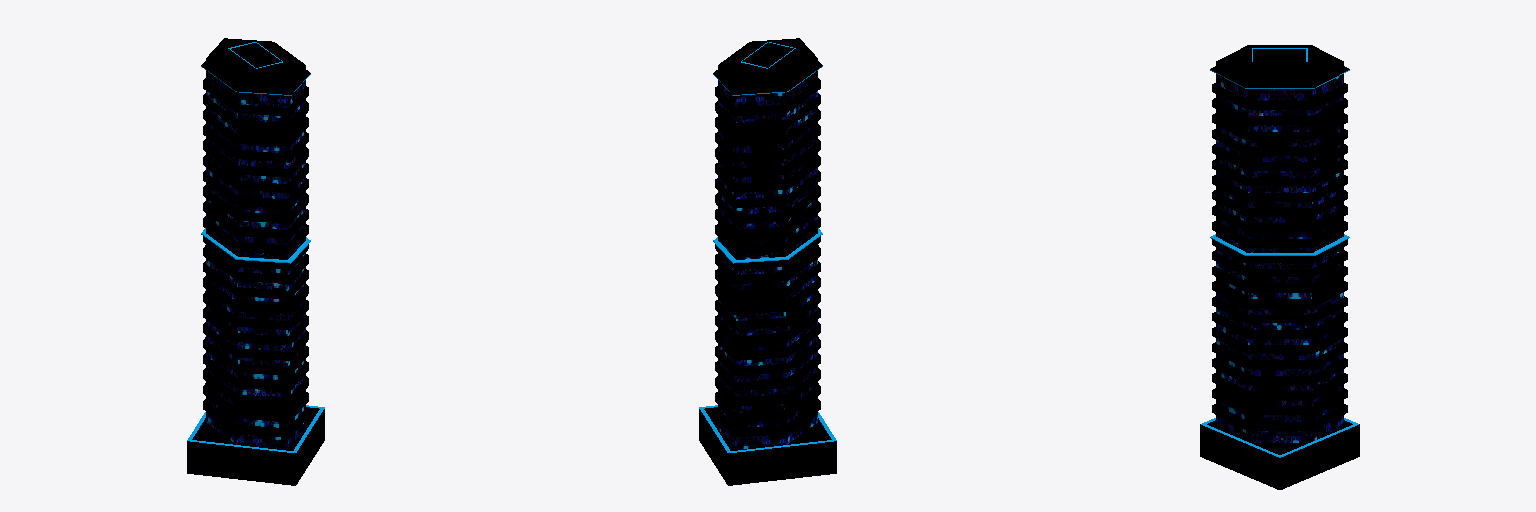
The picture shows the model from 3 angles: view 1: azimuth 30°, elevation 25°; view 2: azimuth 150°, elevation 25°; view 3: azimuth 270°, elevation 25°; orthographic projection.
Visible parts, largest first — view 1: Cylinder; view 2: Cylinder; view 3: Cylinder.
Part boxes in pixels (left/top/right/bottom): Cylinder: left=187, top=38, right=324, bottom=485; Cylinder: left=699, top=38, right=836, bottom=485; Cylinder: left=1200, top=45, right=1359, bottom=489.
Bounding box in the file's own units: 39.87 × 110 × 39.87.
3 materials, 1 textured.